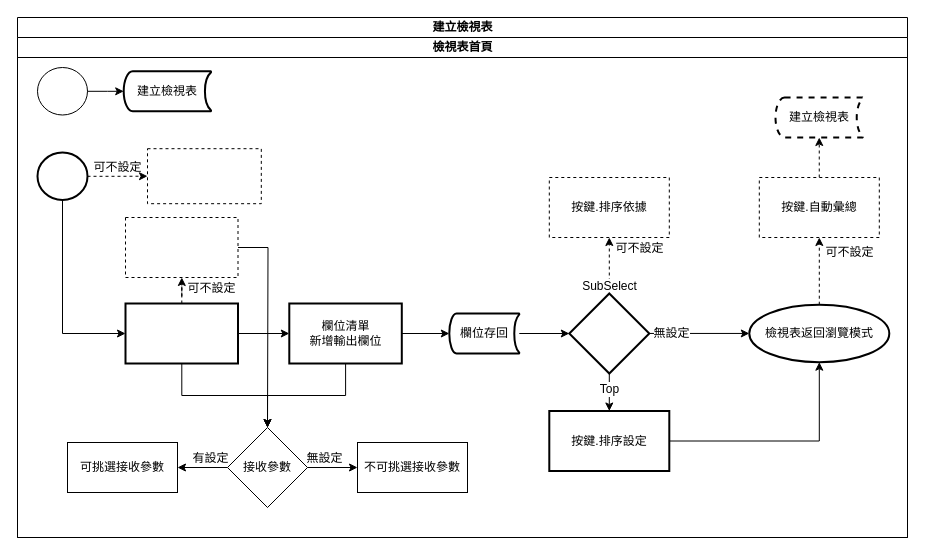
Image size: 925x555. Some labels were removed from this diagram. The centre of each missing label's shape, as x and y in pixels:
"SubSelect Top" goes at point 609,333.
"按鍵.接收參數" goes at point 203,176.
"新增" goes at point 62,90.
"結構展開 新增關聯條件" goes at point 181,333.
"編輯" goes at point 62,175.
"資料過濾條件" goes at point 181,247.
